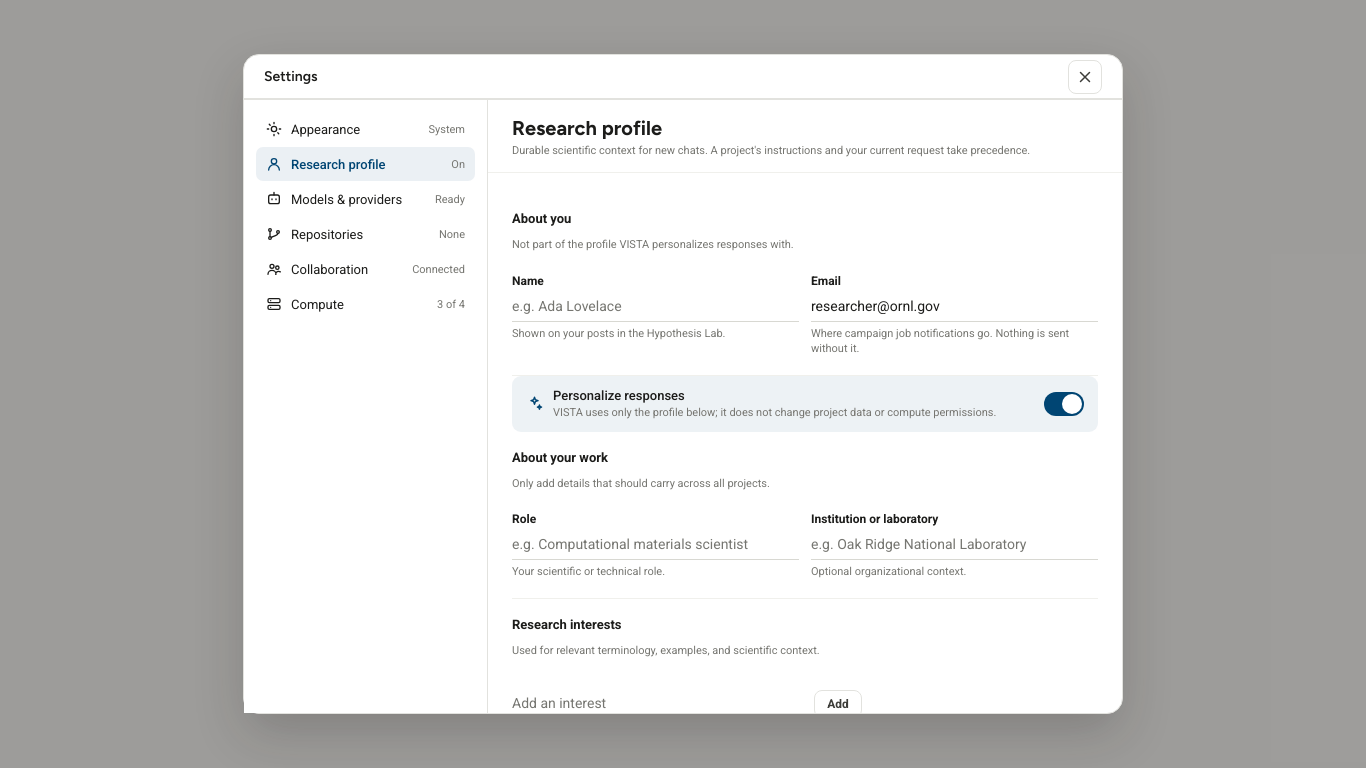
UserSettingsModal collaboration › names the installation's own server when the researcher has set none
Click the button "Collaboration Connected" at (366, 269), box [256,252,475,286]
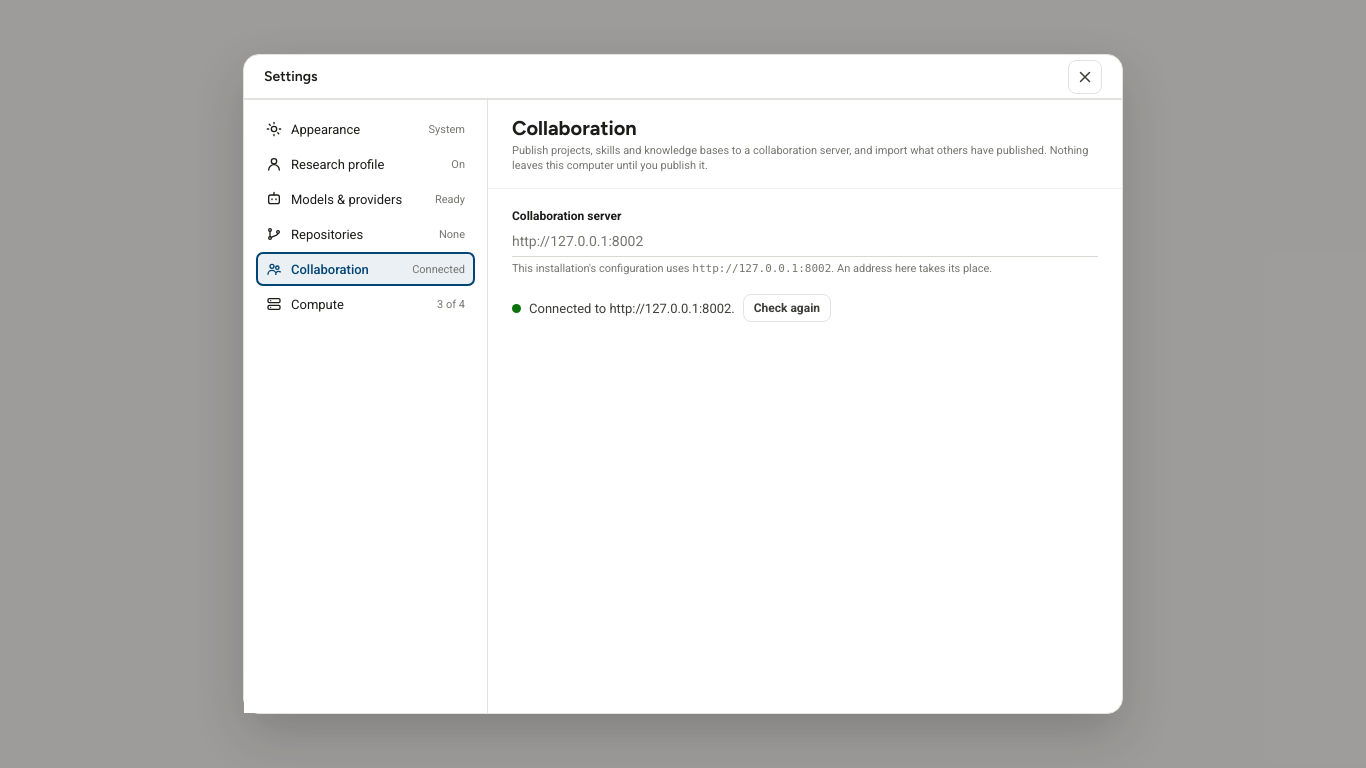
Now the field labelled "Collaboration server" is empty, box [512,227,1098,257]
Now the element "Collaboration" shows "This installation's configuration uses http://127.0.0.1:8002", box [488,100,1122,322]
